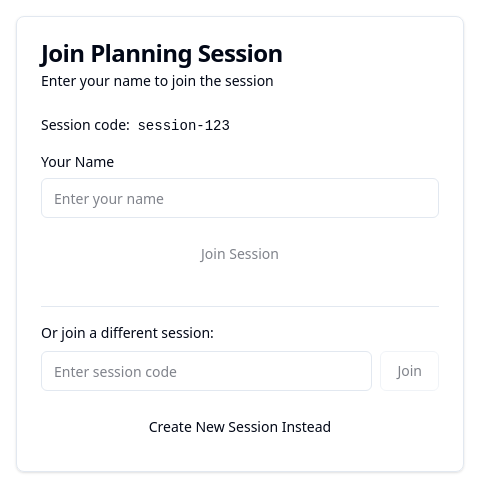
Scenario: SessionJoin › should enable button when name is entered
Type "Jane" into the field with placeholder "Enter your name" at {"x": 240, "y": 198}, box [41, 178, 439, 218]
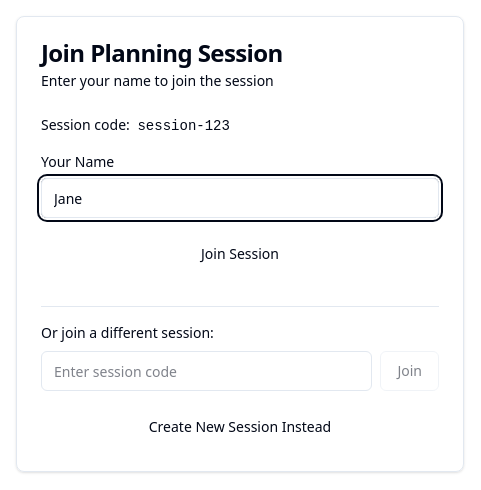
Expected: the button "Join Session" is enabled, [41, 234, 439, 274]
